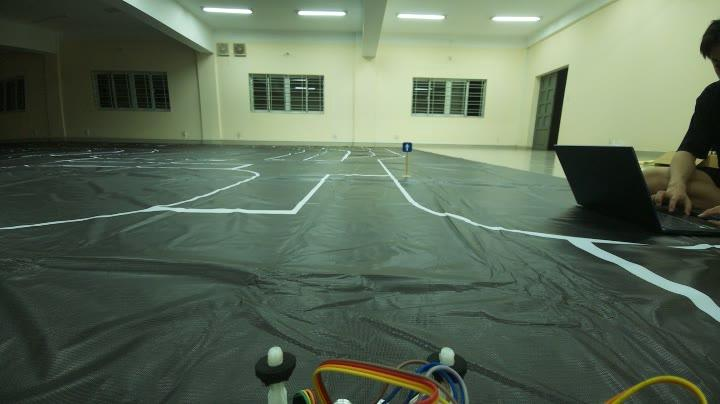onewayroad: (398, 136, 416, 155)
